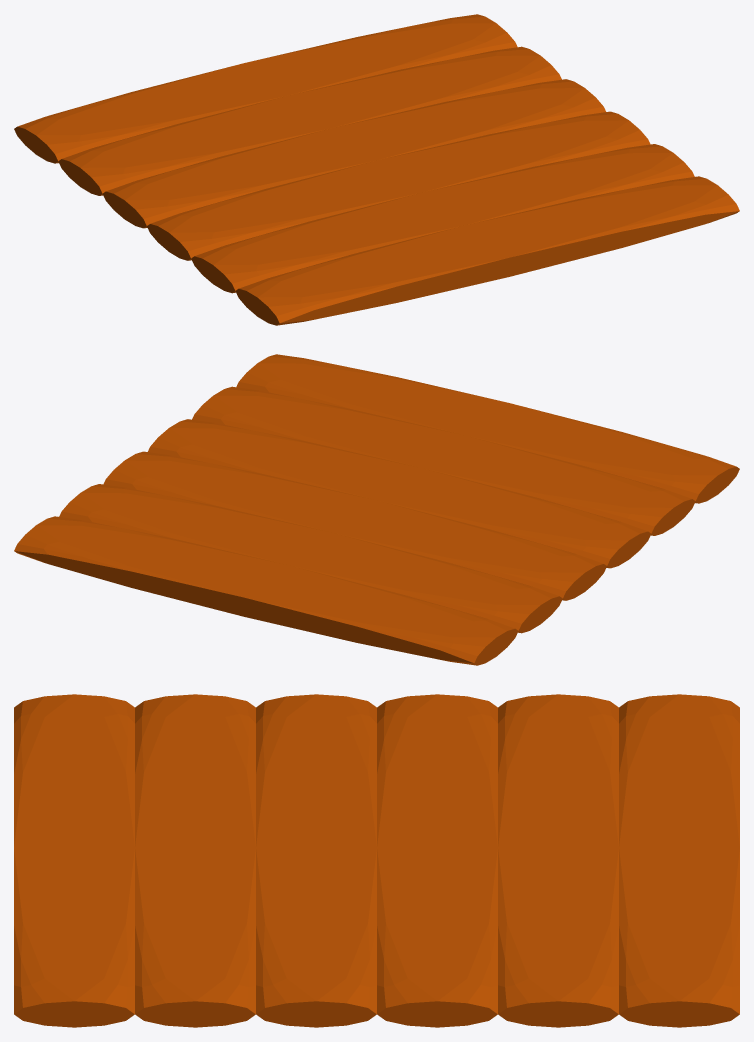
Rendered from Ceiling_Cube.fbx.
The picture shows the model from 3 angles, top to bottom: view 1: azimuth 30°, elevation 25°; view 2: azimuth 150°, elevation 25°; view 3: azimuth 270°, elevation 25°; orthographic projection. The views are drawn at different scales.
Visible parts, largest first — view 1: Cube.030, Cube.022, Cube.020, Cube.027, Cube.029, Cube.028; view 2: Cube.020, Cube.029, Cube.030, Cube.022, Cube.028, Cube.027; view 3: Cube.020, Cube.022, Cube.027, Cube.028, Cube.029, Cube.030.
Boxes of the visible parts, x1,y1,x2,y2 form: Cube.030: [235, 176, 739, 325]; Cube.022: [58, 46, 561, 195]; Cube.020: [14, 14, 517, 163]; Cube.027: [103, 79, 605, 228]; Cube.029: [191, 144, 694, 293]; Cube.028: [147, 111, 650, 260]; Cube.020: [14, 516, 518, 665]; Cube.029: [192, 386, 695, 535]; Cube.030: [236, 354, 739, 503]; Cube.022: [59, 484, 562, 633]; Cube.028: [148, 419, 650, 568]; Cube.027: [103, 451, 606, 600]; Cube.020: [619, 694, 739, 1027]; Cube.022: [498, 694, 618, 1027]; Cube.027: [377, 694, 497, 1027]; Cube.028: [256, 694, 376, 1027]; Cube.029: [135, 694, 255, 1027]; Cube.030: [14, 694, 134, 1027].
Bounding box in the file's own units: 500 × 20 × 500.
